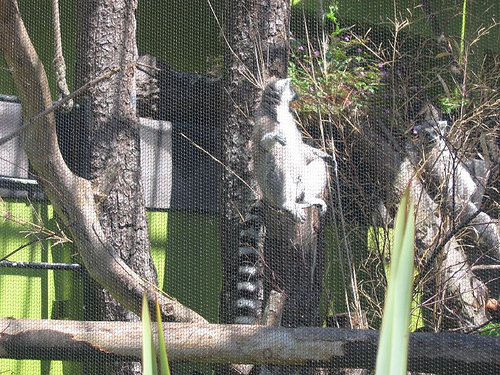cat: (232, 72, 335, 326)
